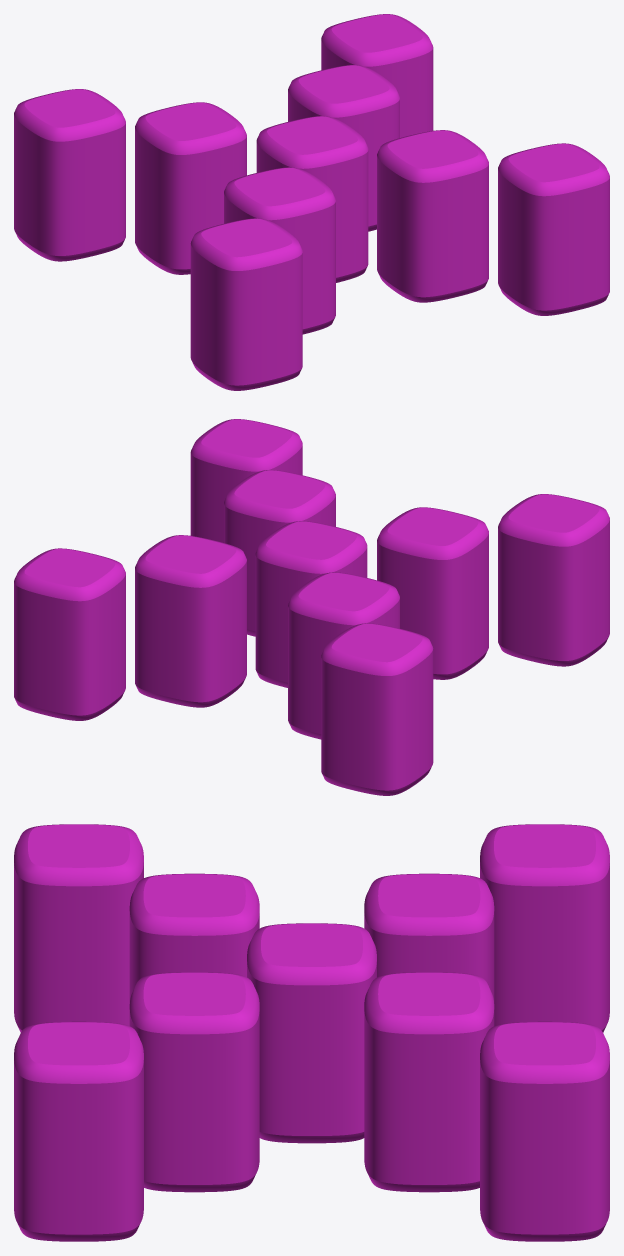
Rendered from Letter_x_Small.fbx.
3 views of the same model, one above another, from view 1: azimuth 30°, elevation 25°; view 2: azimuth 150°, elevation 25°; view 3: azimuth 270°, elevation 25° (orthographic). The views are drawn at different scales.
Parts seen in each view (by area): view 1: Letter_x; view 2: Letter_x; view 3: Letter_x.
Part boxes in pixels (bbox=[...]): Letter_x: bbox=[14, 14, 609, 390]; Letter_x: bbox=[14, 419, 609, 795]; Letter_x: bbox=[14, 824, 609, 1241].
Bounding box in the file's own units: 0.4311 × 0.14 × 0.43.
